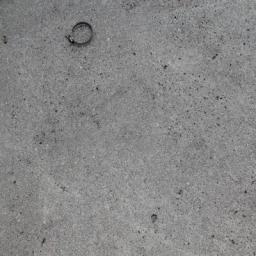FOD: (63, 19, 98, 50)
